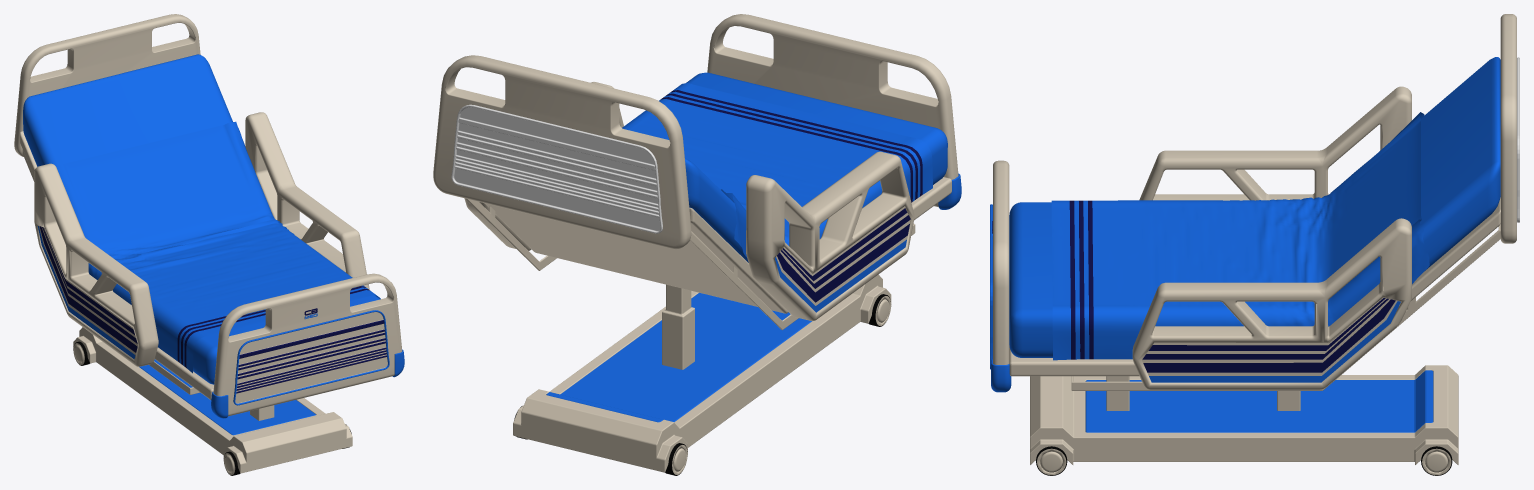
The model's file is bed.glb.
The picture shows the model from 3 angles, left to right: view 1: azimuth 30°, elevation 25°; view 2: azimuth 150°, elevation 25°; view 3: azimuth 270°, elevation 25°; orthographic projection. The views are drawn at different scales.
Visible parts, largest first — view 1: Bed_4; view 2: Bed_4; view 3: Bed_4.
Part boxes in pixels (x1,y1,x2,y2): Bed_4: (14,14,404,475); Bed_4: (433,14,961,475); Bed_4: (990,14,1519,475).
Size of the model in its own units: 1.27 by 1.59 by 1.99.
